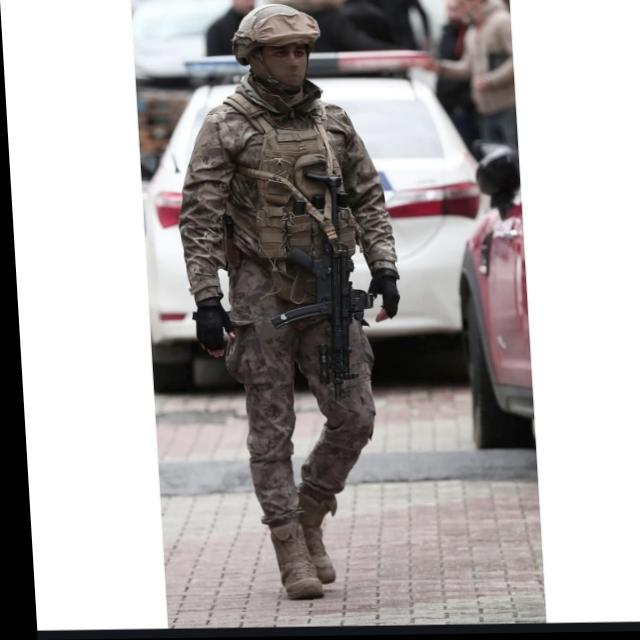poh_personel: (168, 3, 411, 600)
